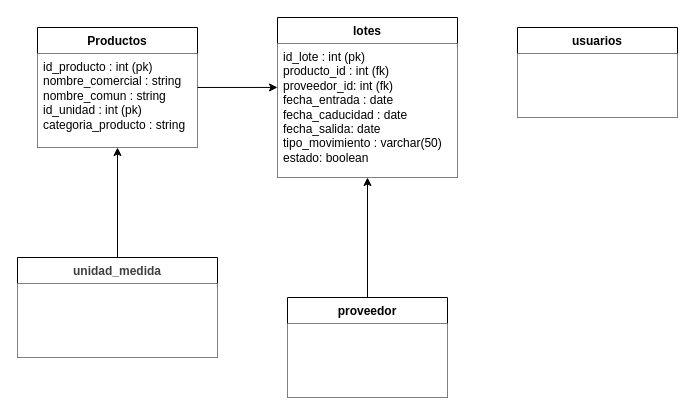
Some shapes in this 695 by 418 pixel diagram are drawn without their labels. Here are the shapes that lost their labels. From the top down, the centre of each, then its label:
At (x=597, y=85): "id_usuario : int (pk) name_user: string password : string".
At (x=117, y=320): "id_unidad : int (pk) nombre_unidad: varchar(20) abreviatura: varchar(20)".
At (x=367, y=360): "id_proveedor : int nombre: varchar(50)".
